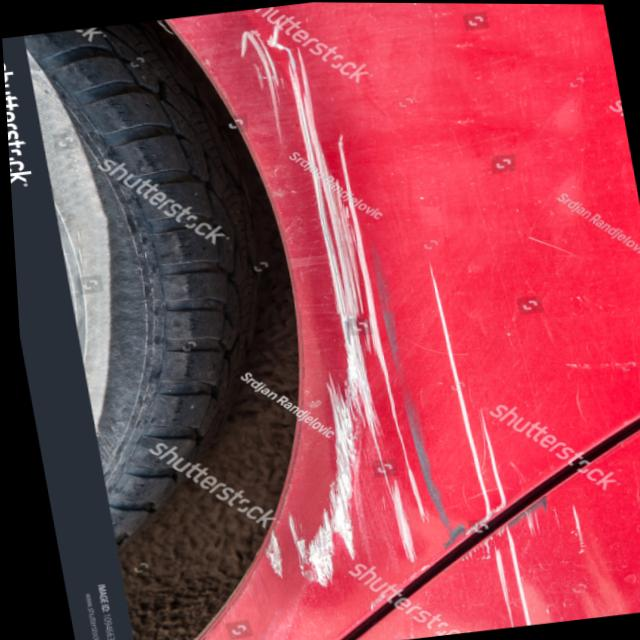Scratch: (163, 2, 528, 640)
